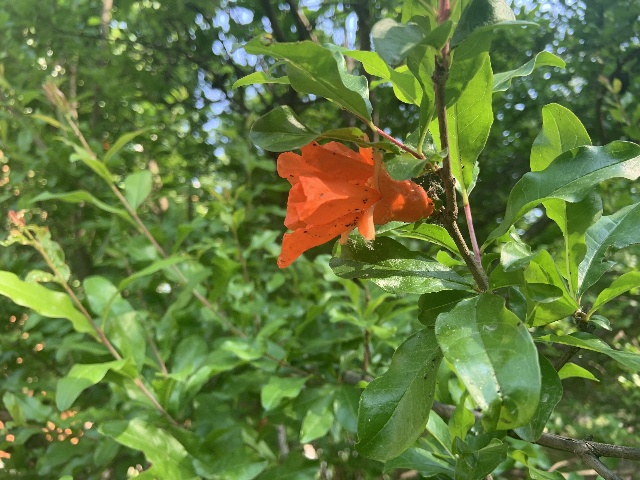flower: (274, 138, 433, 267)
